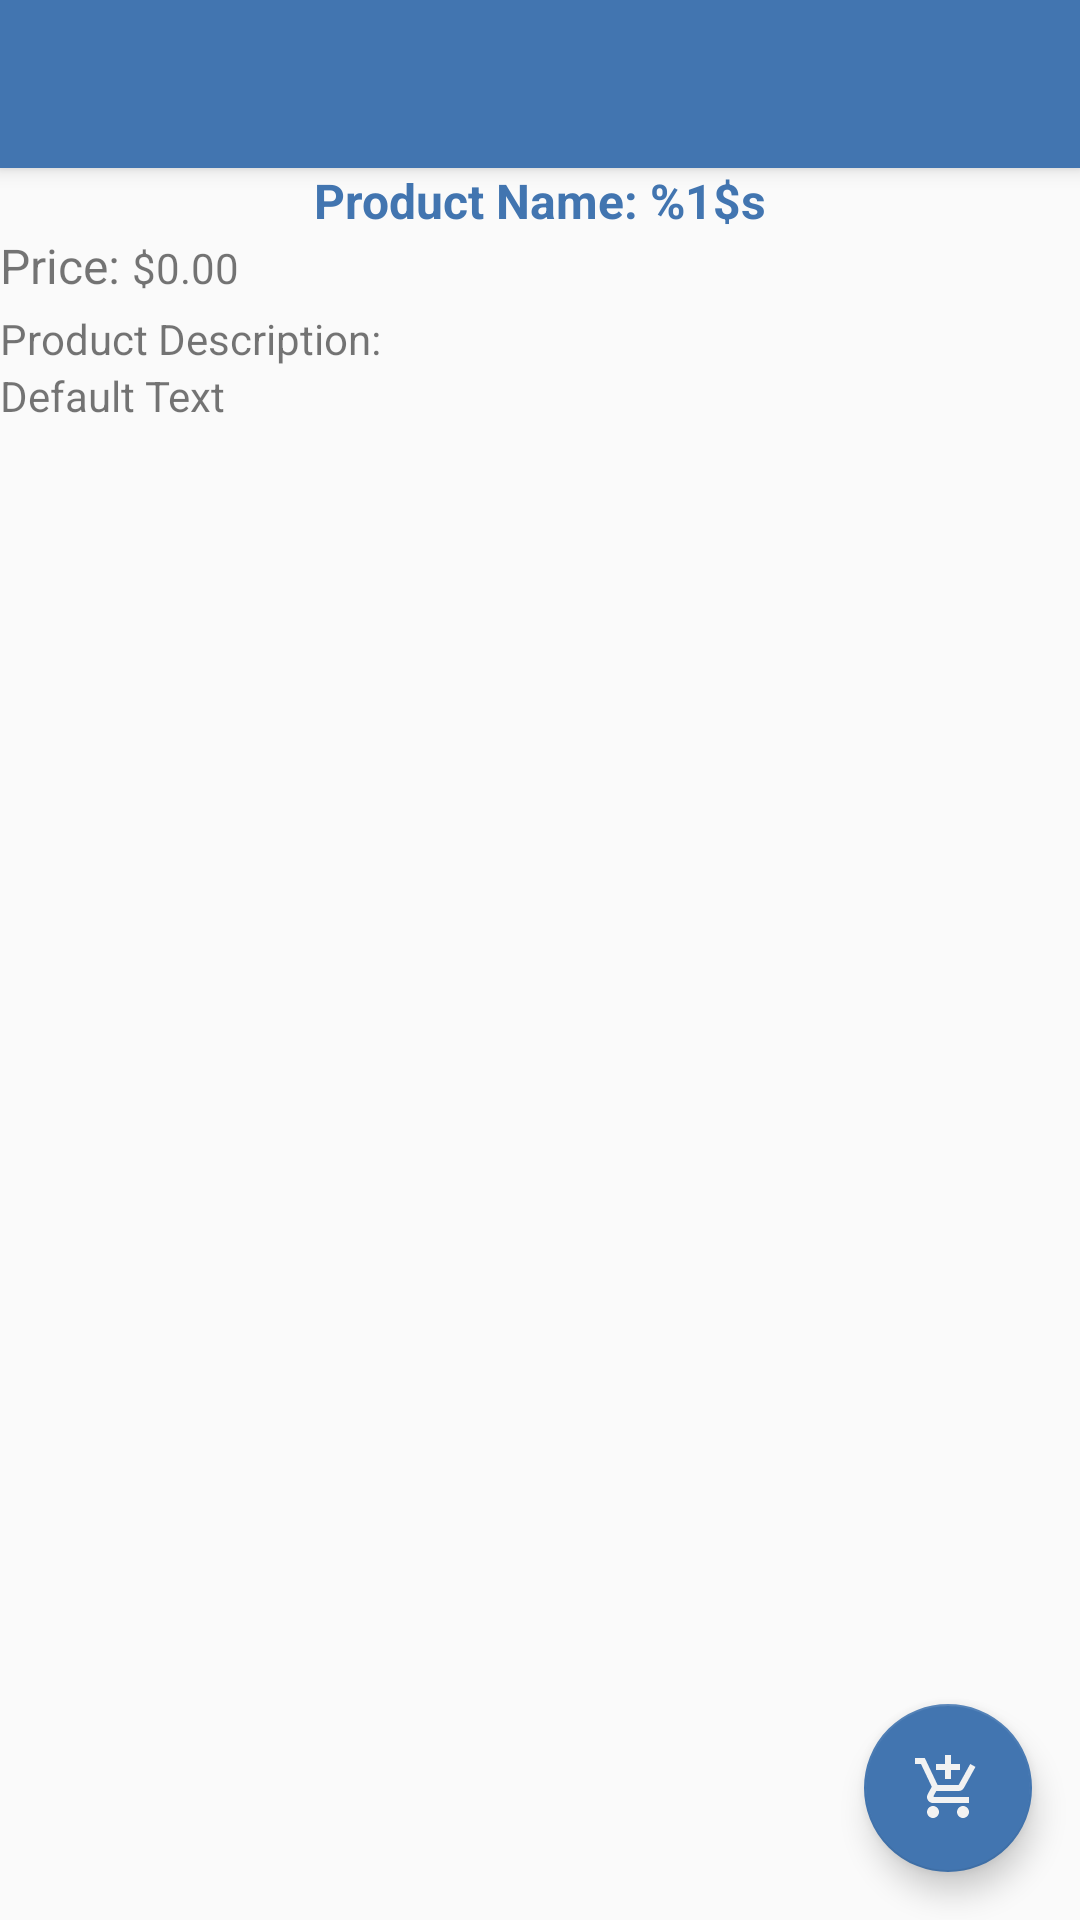

Screen size 1080*1920. Icon name, then its center in pixels as [x,y]:
add shopping cart: [948,1788]
